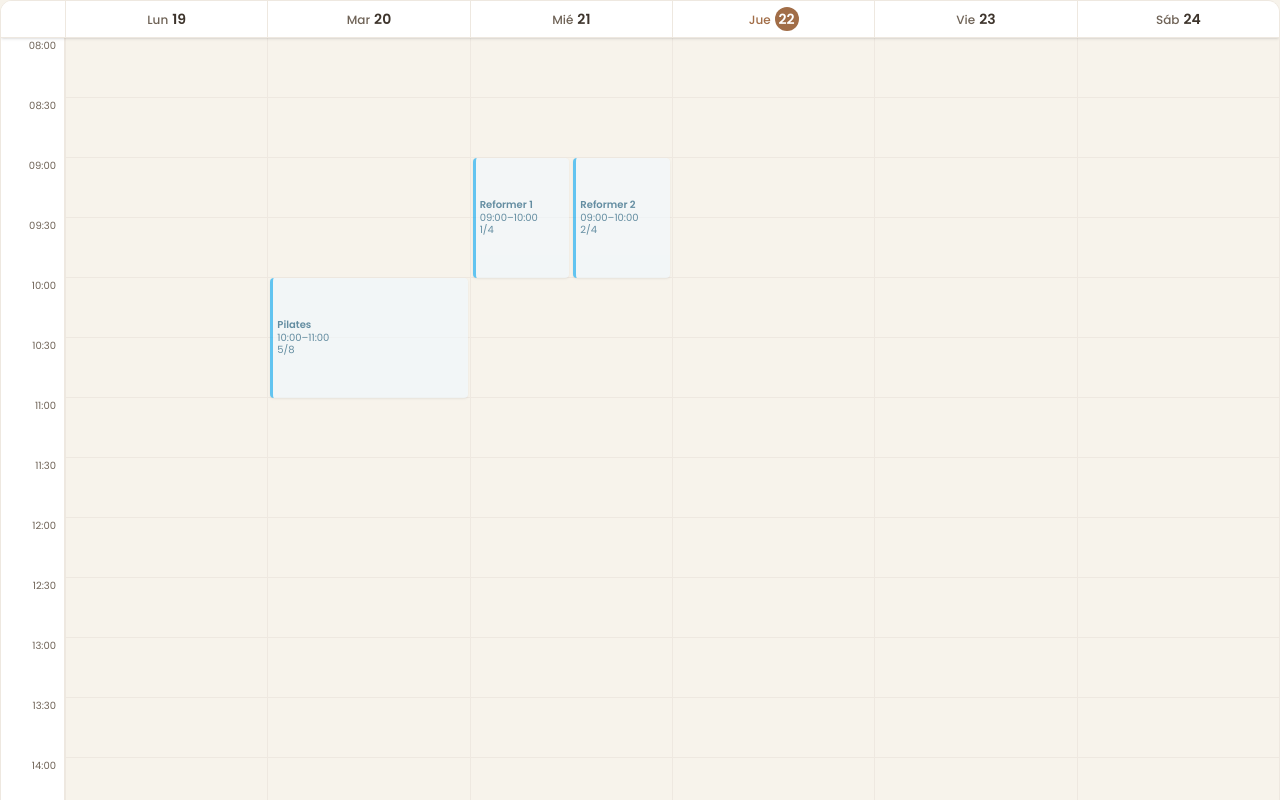
Test: SemanaGrupal › al pasar el mouse muestra quiénes están anotadas
This screenshot has width=1280, height=800.
Expected: the text "Lucía Pérez" is not shown
Hover over the element showing "Pilates 10:00–11:00 5/8" at x=369, y=338, box [270,278,468,398]
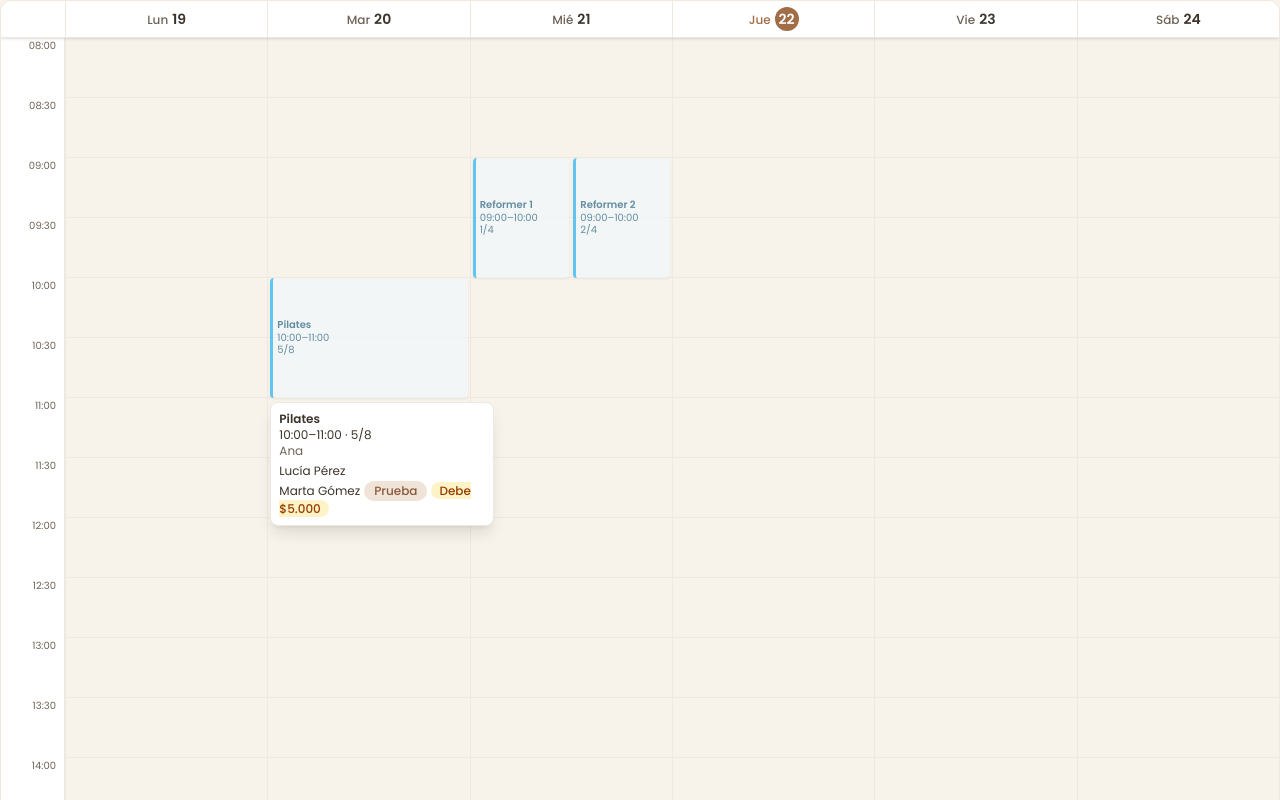
Now the list item "Lucía Pérez" is shown, box [279,462,346,479]
Now the list item "Marta Gómez" is shown, box [279,482,360,499]
Now the text "Prueba" is shown, box [364,481,427,501]
